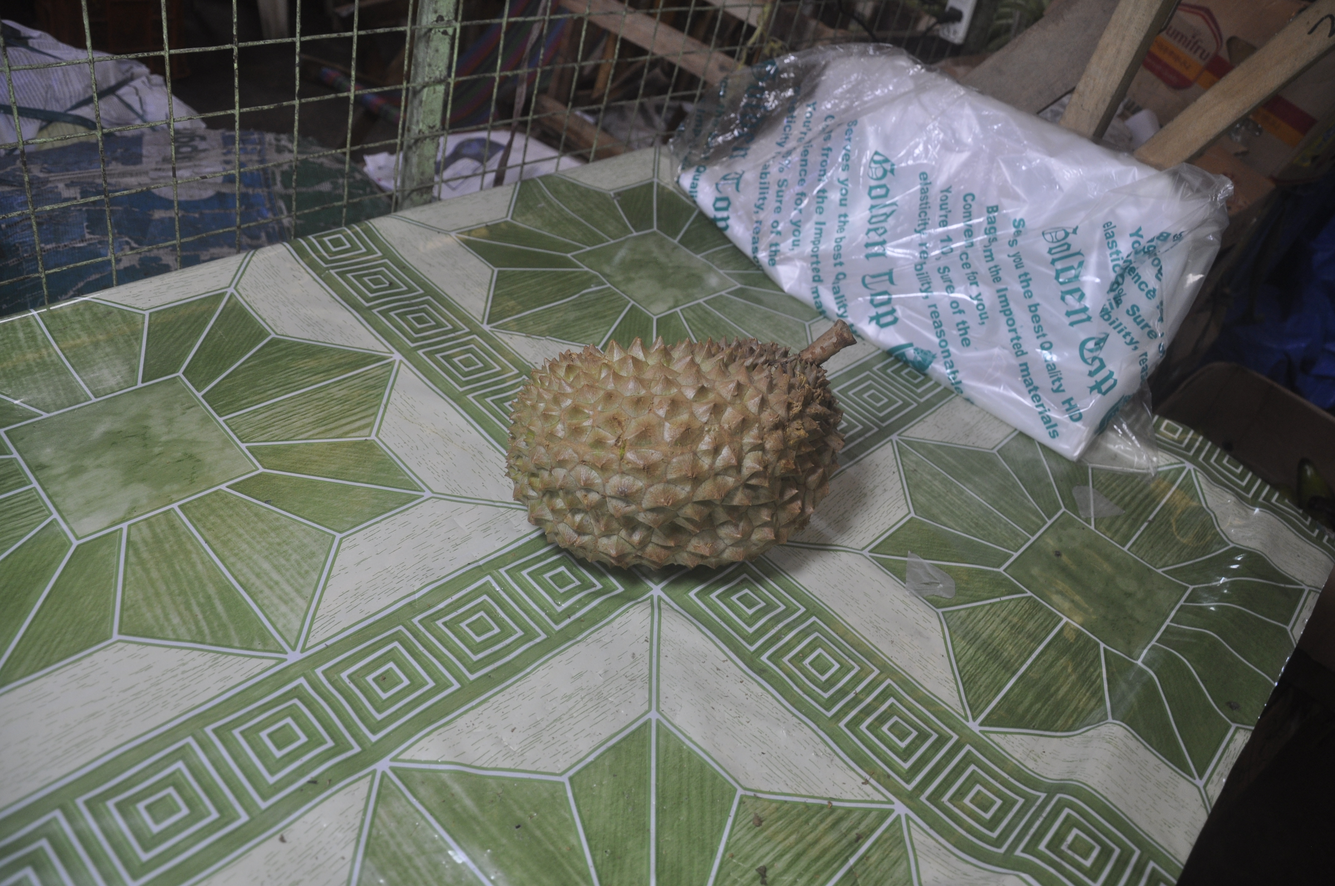mature: (507, 320, 857, 570)
